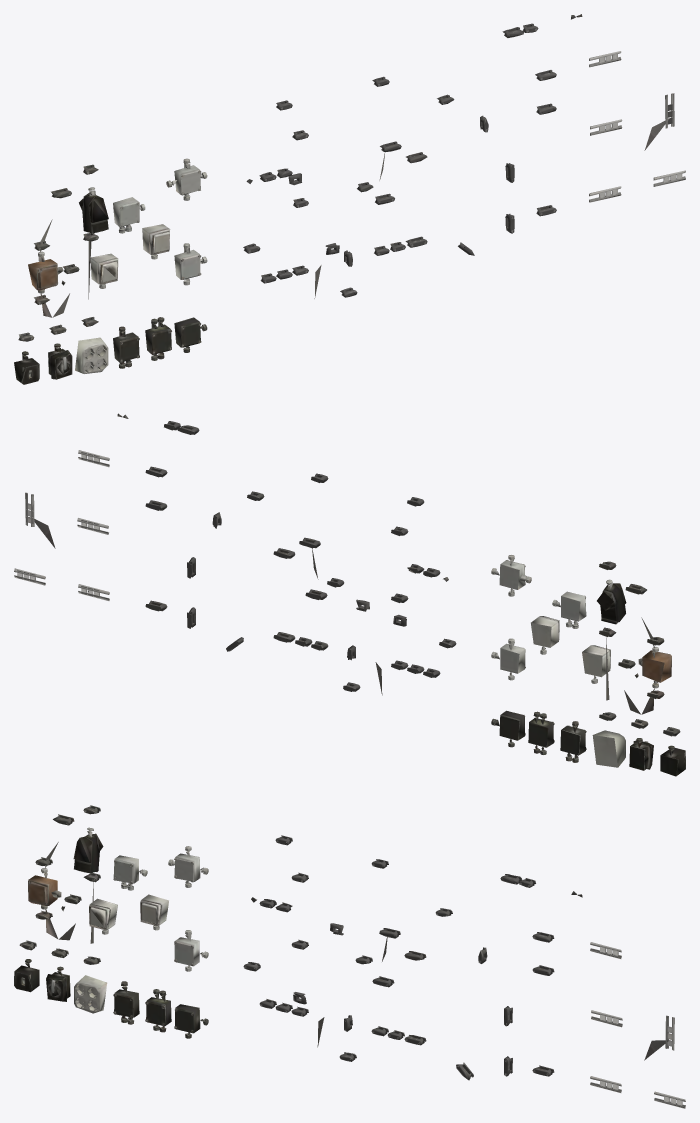
The model's file is modular_electric_cables_lod2.glb.
3 views of the same model, one above another, from view 1: azimuth 30°, elevation 25°; view 2: azimuth 150°, elevation 25°; view 3: azimuth 330°, elevation 25° (orthographic).
Parts seen in each view (by area): view 1: cable_box_3way, cable_straight_medium; view 2: cable_box_3way, cable_straight_medium; view 3: cable_box_3way, cable_straight_medium.
Part boxes in pixels (box(x1,y1,x2,y2)): cable_box_3way: box(14, 158, 207, 384); cable_straight_medium: box(243, 14, 685, 298); cable_box_3way: box(491, 555, 685, 776); cable_straight_medium: box(14, 413, 456, 695); cable_box_3way: box(14, 805, 208, 1038); cable_straight_medium: box(243, 835, 685, 1108).
Bounding box in the file's own units: 2.08 × 0.7156 × 0.2146.
2 materials, 2 textured.
